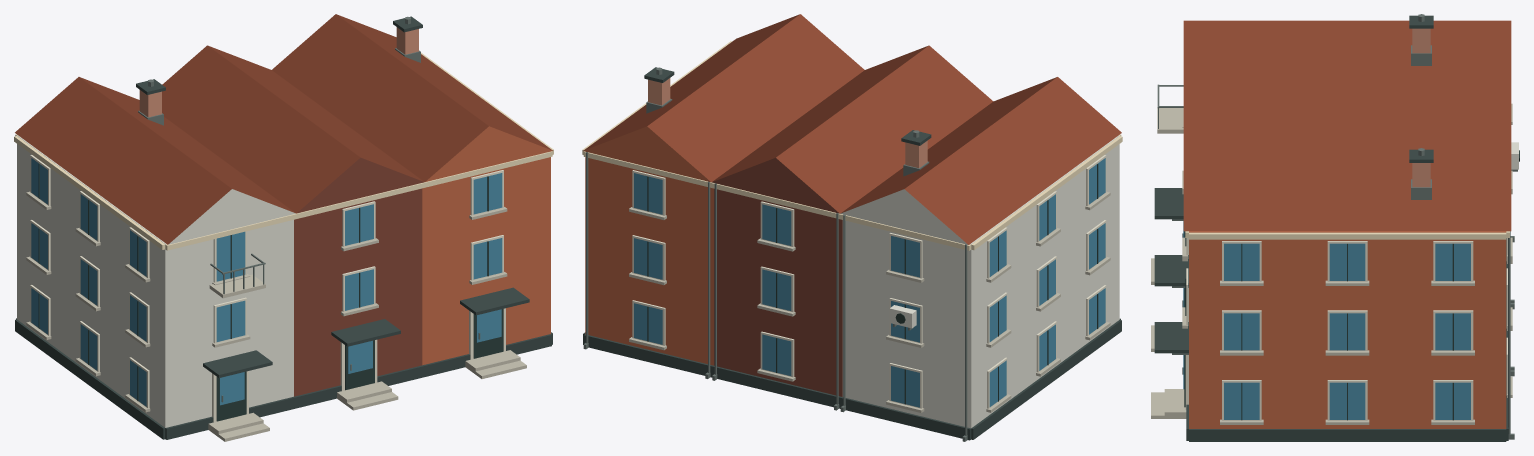
Rendered from TownhouseRow3.obj.
The picture shows the model from 3 angles, left to right: view 1: azimuth 30°, elevation 25°; view 2: azimuth 150°, elevation 25°; view 3: azimuth 270°, elevation 25°; orthographic projection. The views are drawn at different scales.
Parts seen in each view (by area): view 1: TownhouseRow3; view 2: TownhouseRow3; view 3: TownhouseRow3.
Part boxes in pixels (x1,y1,x2,y2): TownhouseRow3: [14, 14, 553, 441]; TownhouseRow3: [582, 14, 1122, 441]; TownhouseRow3: [1151, 14, 1519, 441].
Bounding box in the file's own units: 18.5 × 11.41 × 13.95.
1 material, 1 textured.
